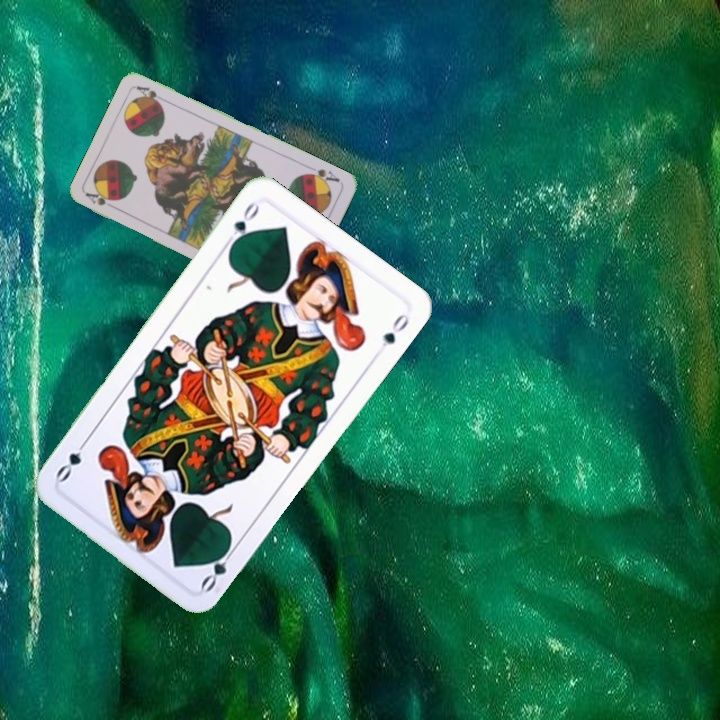GO: (196, 539, 240, 595), (220, 198, 263, 251)
SA: (302, 162, 343, 188), (82, 188, 120, 212)
